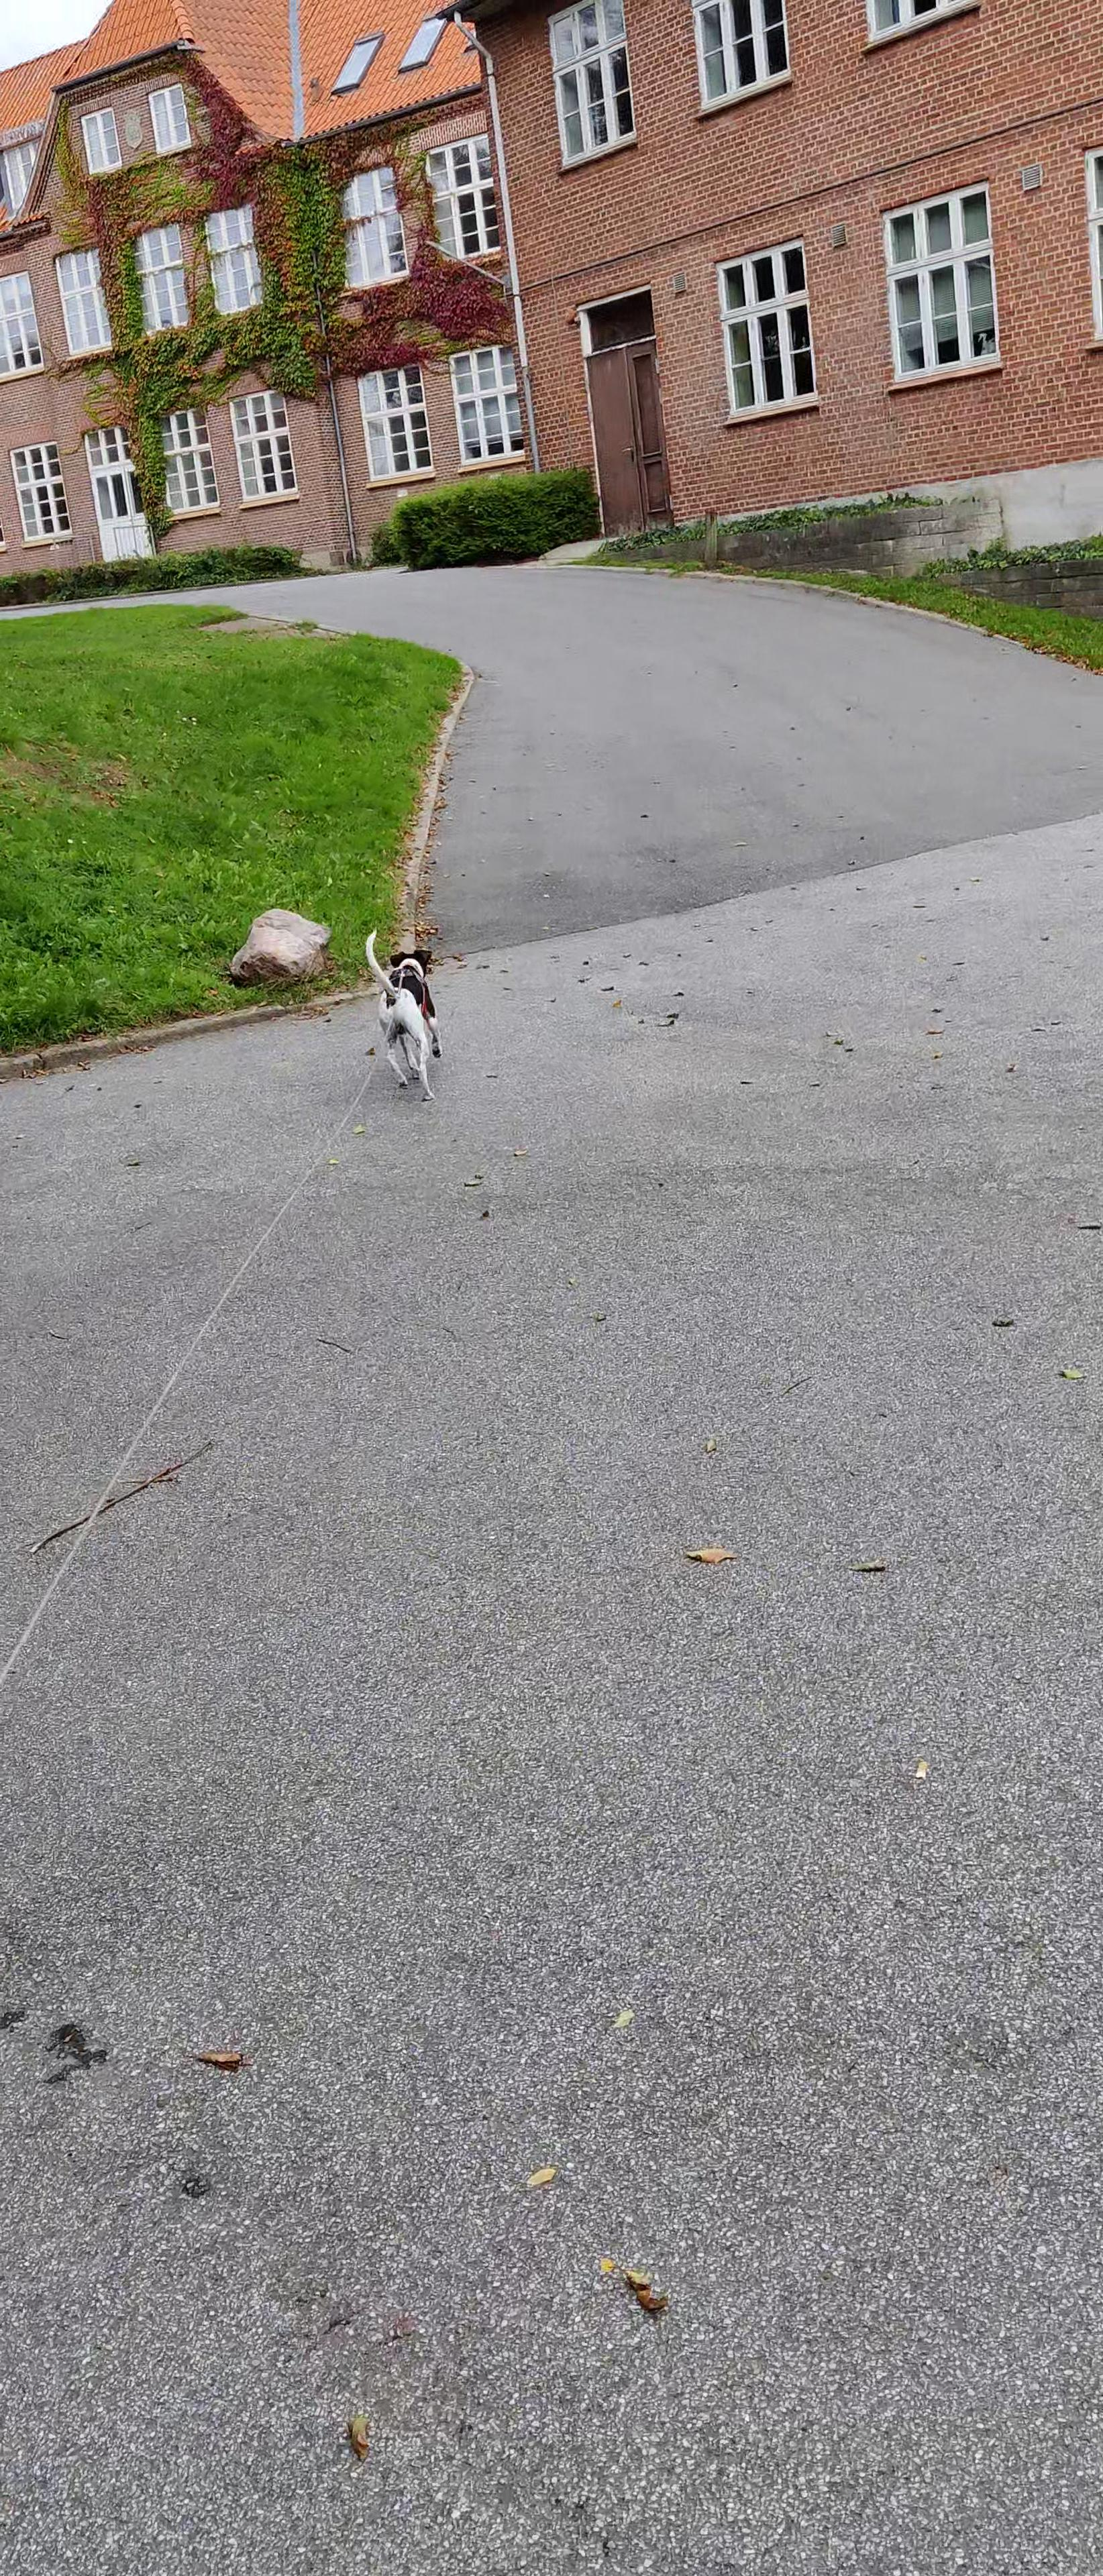Dog: (348, 913, 470, 1119)
